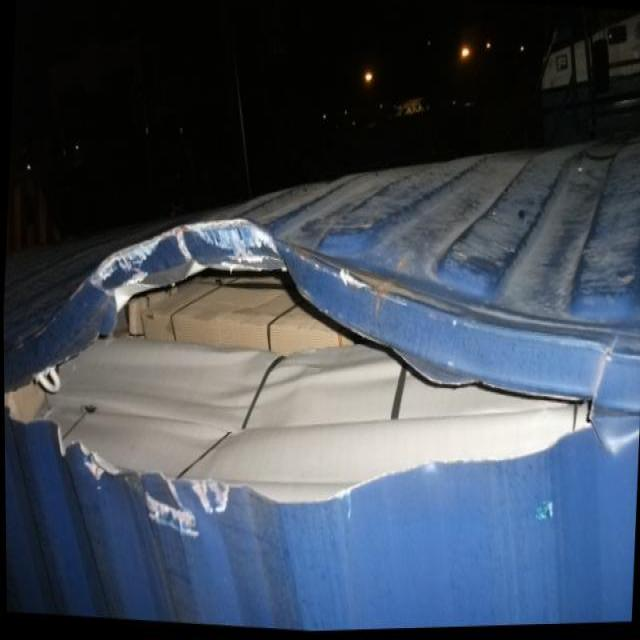hole: (3, 185, 610, 542)
